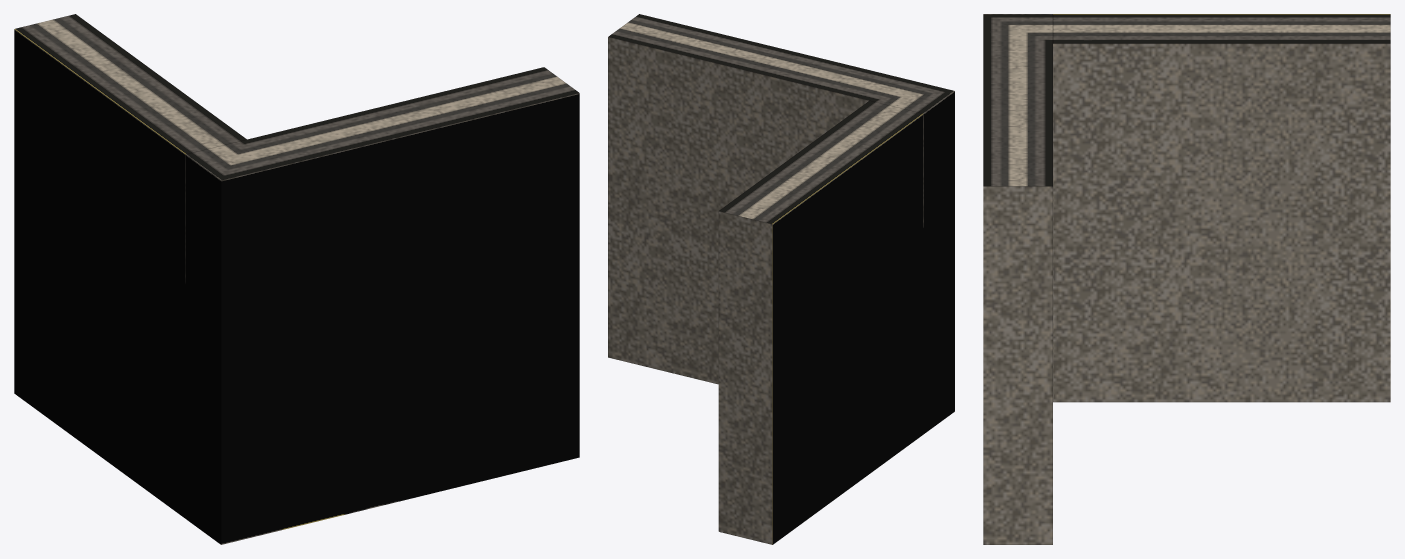
The model's file is school_wall1_corner.fbx.
3 views of the same model, side by side, from view 1: azimuth 30°, elevation 25°; view 2: azimuth 150°, elevation 25°; view 3: azimuth 270°, elevation 25° (orthographic). The views are drawn at different scales.
Parts seen in each view (by area): view 1: cuboid; view 2: cuboid; view 3: cuboid.
Boxes of the visible parts, bbox=[...] form: cuboid: bbox=[14, 14, 579, 544]; cuboid: bbox=[608, 14, 954, 544]; cuboid: bbox=[983, 14, 1390, 544].
Bounding box in the file's own units: 219 × 212 × 219.
1 material, 1 textured.
